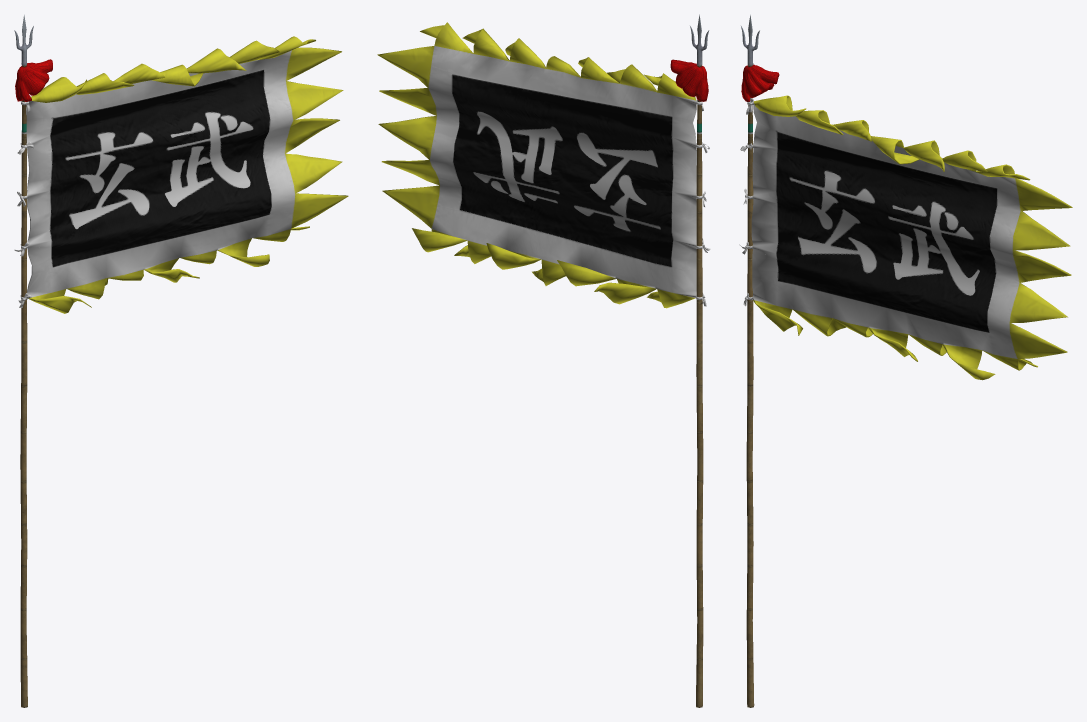
The model's file is SM_HyeonmugiFlag.fbx.
3 renders of one model, left to right at view 1: azimuth 30°, elevation 25°; view 2: azimuth 150°, elevation 25°; view 3: azimuth 330°, elevation 25°, orthographic.
Parts seen in each view (by area): view 1: SM_HyeonmugiFlag_LOD0; view 2: SM_HyeonmugiFlag_LOD0; view 3: SM_HyeonmugiFlag_LOD0.
Part boxes in pixels (x1,y1,x2,y2): SM_HyeonmugiFlag_LOD0: (14,14,348,707); SM_HyeonmugiFlag_LOD0: (377,14,710,707); SM_HyeonmugiFlag_LOD0: (739,14,1072,707).
Bounding box in the file's own units: 282 × 564 × 41.75.
1 material, 1 textured.
